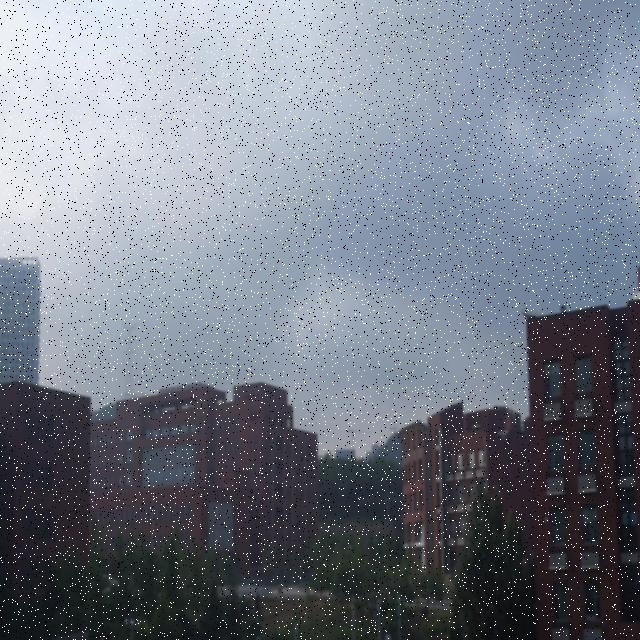UAV: (496, 430, 509, 440)
